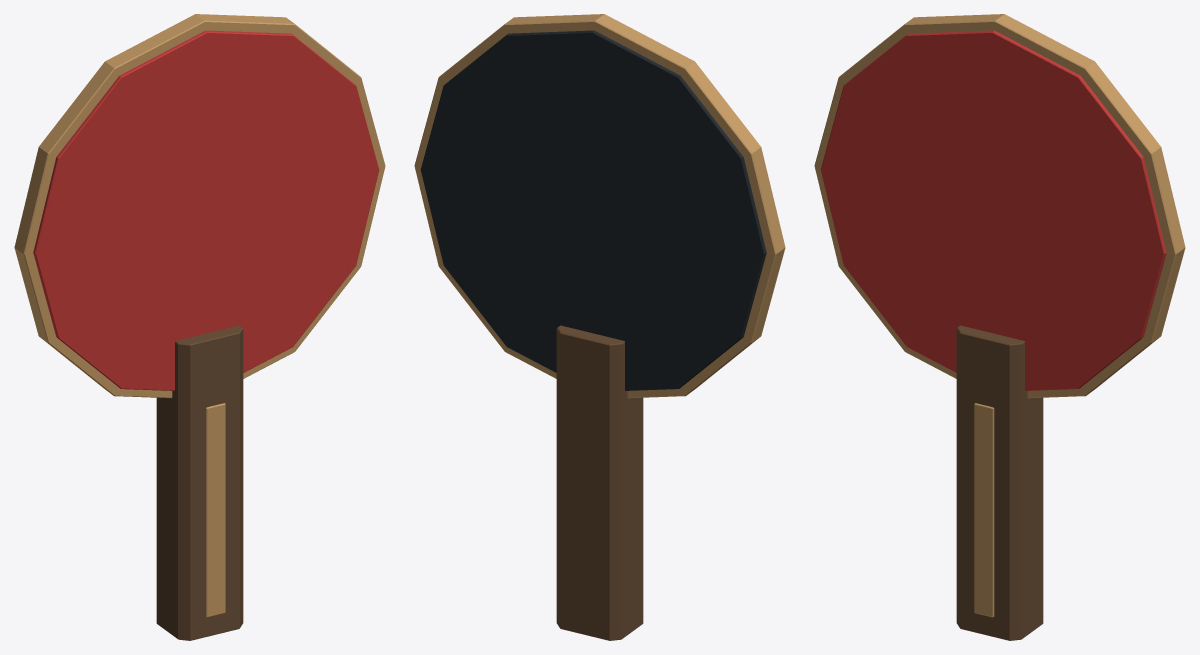
The model's file is b17_table_tennis_paddle.glb.
3 renders of one model, left to right at view 1: azimuth 30°, elevation 25°; view 2: azimuth 150°, elevation 25°; view 3: azimuth 330°, elevation 25°, orthographic.
Parts seen in each view (by area): view 1: b17_table_tennis_paddle; view 2: b17_table_tennis_paddle; view 3: b17_table_tennis_paddle.
Boxes of the visible parts, box(x1,y1,x2,y2) form: b17_table_tennis_paddle: box(14, 14, 385, 640); b17_table_tennis_paddle: box(414, 14, 785, 640); b17_table_tennis_paddle: box(814, 14, 1185, 640).
Size of the model in its own units: 0.166 by 0.266 by 0.025.
